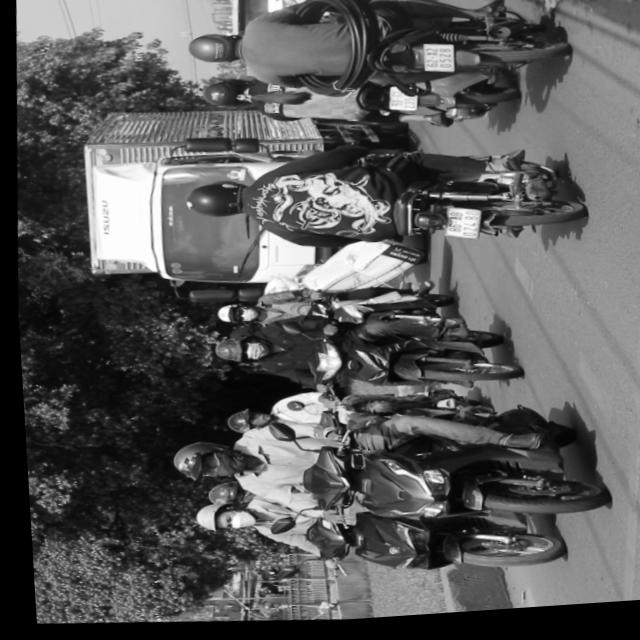helmet: (165, 441, 241, 487), (179, 180, 246, 224), (186, 502, 250, 539), (185, 32, 243, 70), (198, 80, 250, 114), (208, 337, 262, 368), (219, 408, 273, 438), (199, 481, 246, 509), (210, 304, 256, 329)
licenseplate: (156, 374, 606, 551), (175, 130, 583, 276), (179, 0, 570, 122), (178, 487, 565, 601), (204, 307, 519, 412), (185, 64, 512, 154), (206, 272, 456, 354)
nohelmet: (439, 212, 479, 247), (421, 48, 454, 80), (386, 90, 417, 116)
